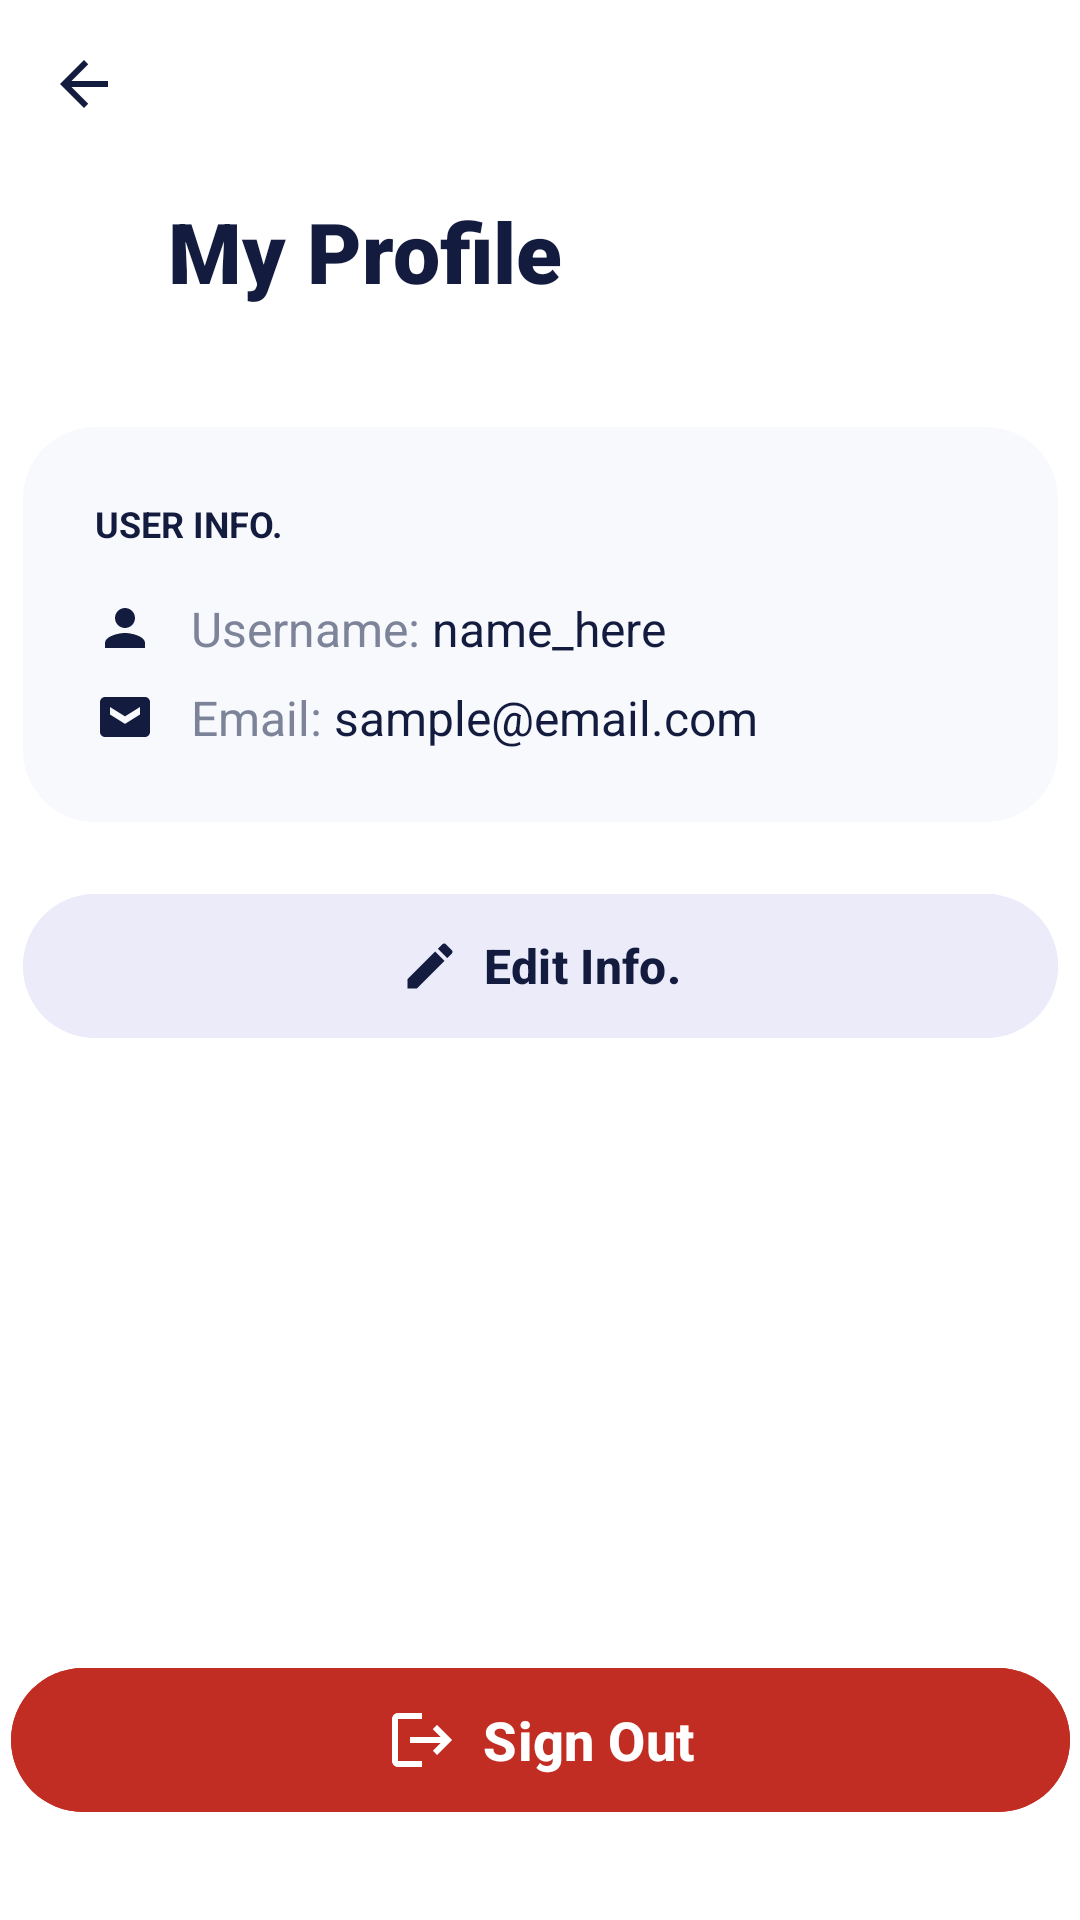

Icon click points for this 1080w x 1920h phone screenshot, format point (x, y):
arrow back: point (84, 84)
person: point (125, 628)
